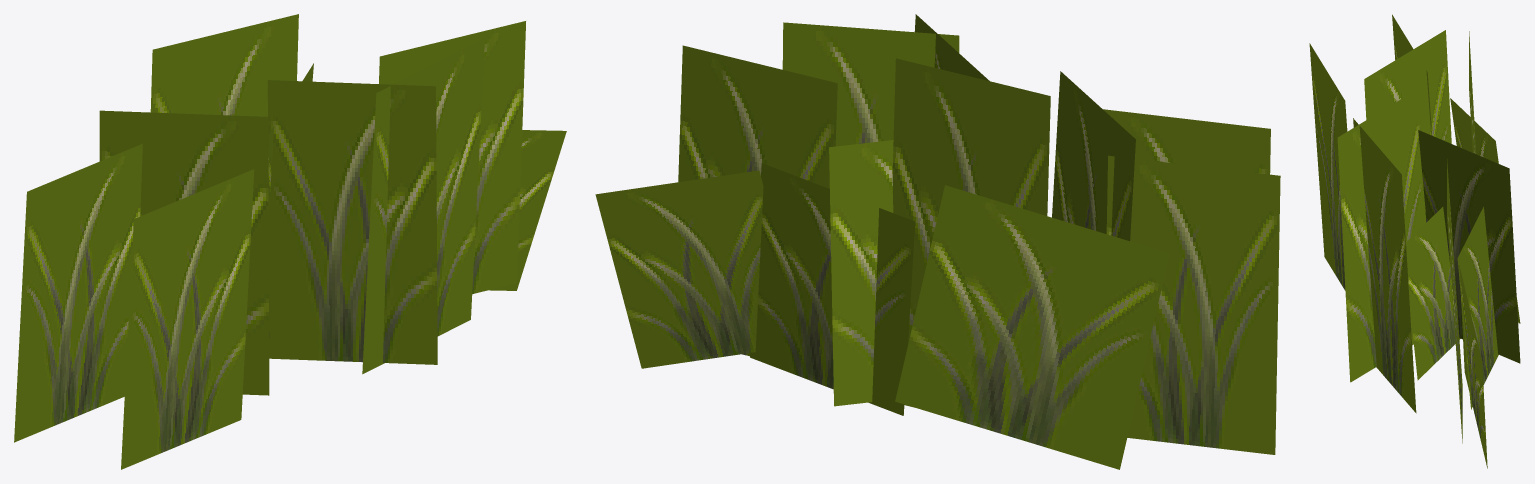
File: plants_k004.FBX
The picture shows the model from 3 angles, left to right: view 1: azimuth 30°, elevation 25°; view 2: azimuth 150°, elevation 25°; view 3: azimuth 270°, elevation 25°; orthographic projection. The views are drawn at different scales.
Visible parts, largest first — view 1: plants_k004; view 2: plants_k004; view 3: plants_k004.
Boxes of the visible parts, x1,y1,x2,y2 form: plants_k004: (14, 14, 566, 469); plants_k004: (595, 14, 1280, 469); plants_k004: (1309, 14, 1520, 468).
Bounding box in the file's own units: 4.45 × 2.43 × 1.62.
Materials: 1 (1 with a texture image).
